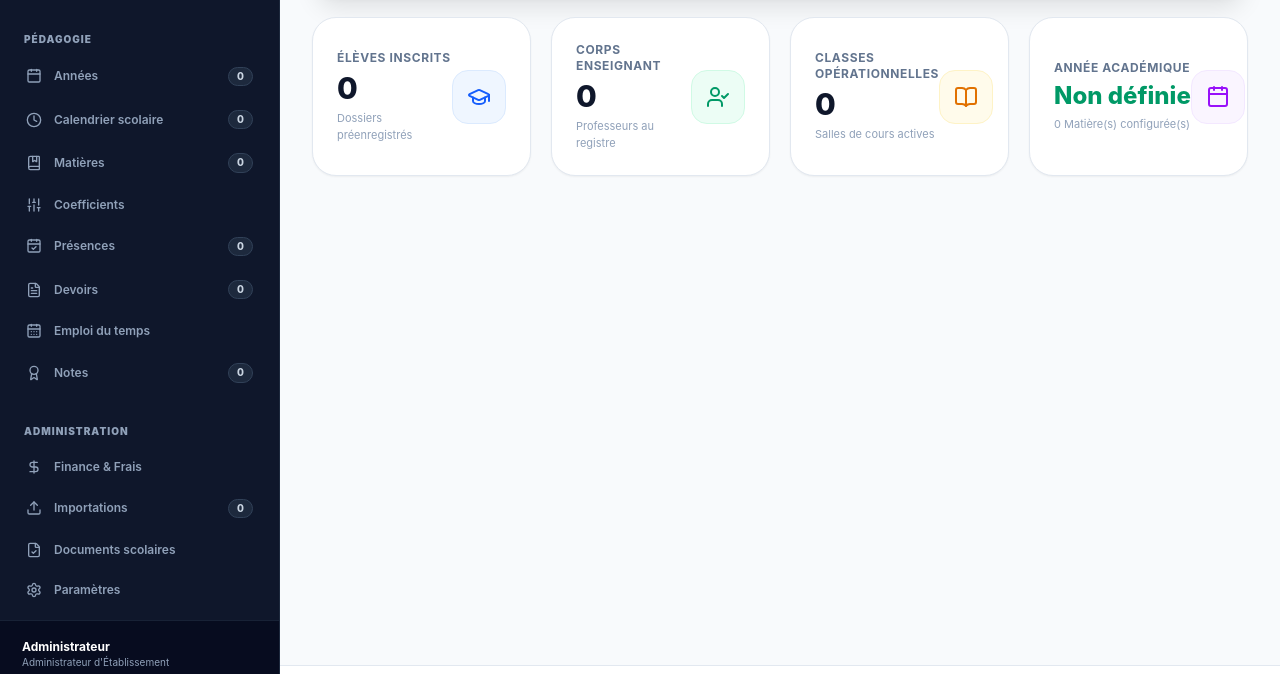
Test: RealSchoolAdminPortal — Navigation et Visibilité des Onglets › 1. school_admin voit l’onglet Documents scolaires juste avant Paramètres, le clic affiche le module
(page scrolled)
// Clic sur l'onglet Documents scolaires et vérification de l'activation
Click the button "Documents scolaires": (140, 550) x1=12 y1=532 x2=267 y2=568
(page scrolled)
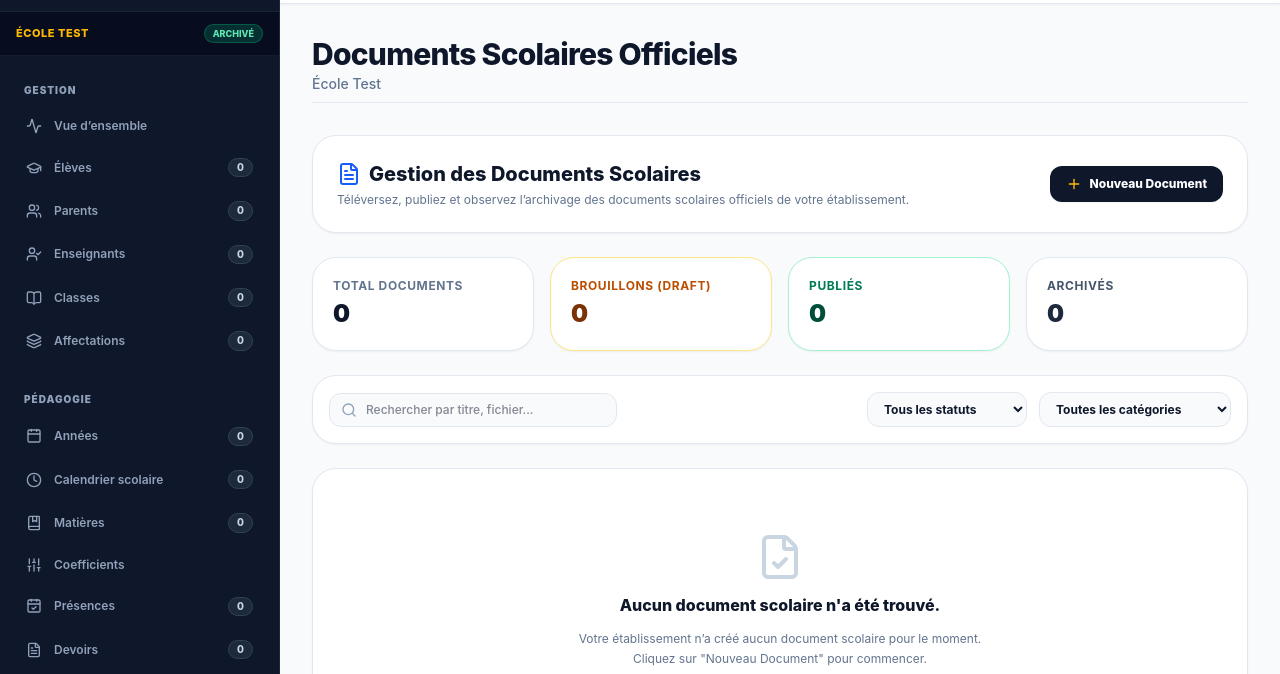
Expected: the heading "Gestion des Documents Scolaires" is shown, x1=337 y1=162 x2=701 y2=186
